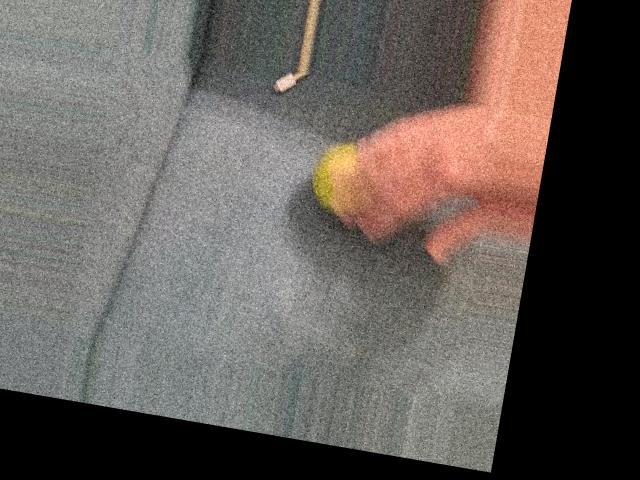apple: (283, 121, 420, 235)
